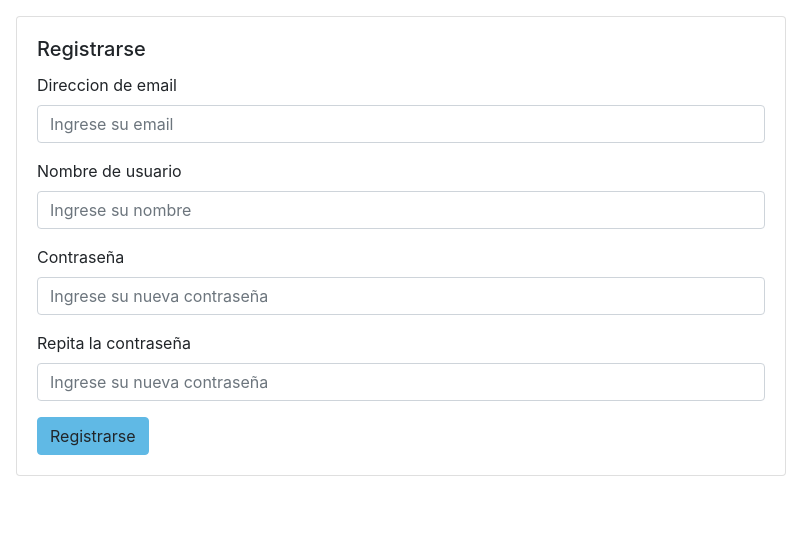
<Signup /> › should show error on invalid login
In the field labelled "Direccion de email": (401, 124) left=37, top=105, right=765, bottom=143, type "usuario@test.com.ar"
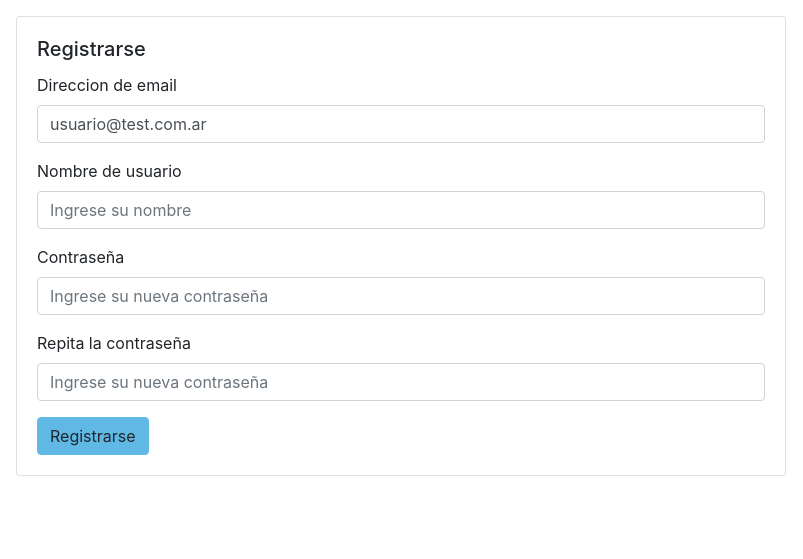
In the field labelled "Nombre de usuario": (401, 210) left=37, top=191, right=765, bottom=229, type "usuario"
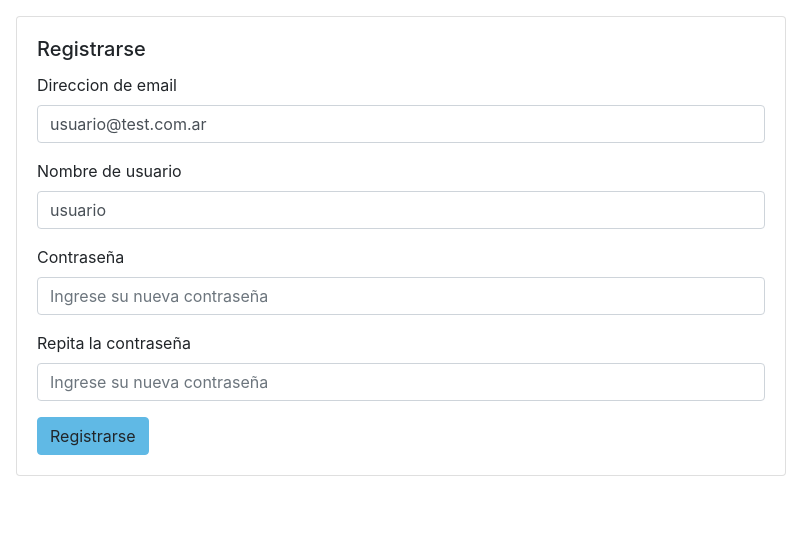
In the password field labelled "Contraseña": (401, 296) left=37, top=277, right=765, bottom=315, type "test123"
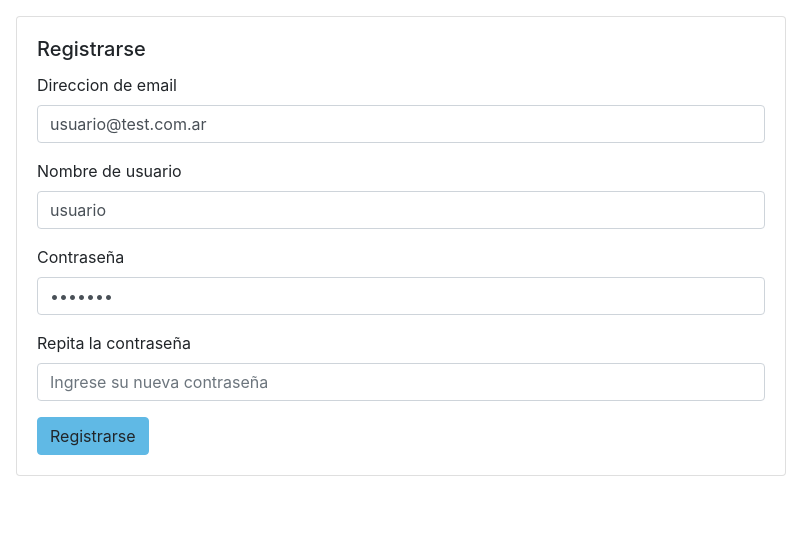
In the password field labelled "Repita la contraseña": (401, 382) left=37, top=363, right=765, bottom=401, type "test123"
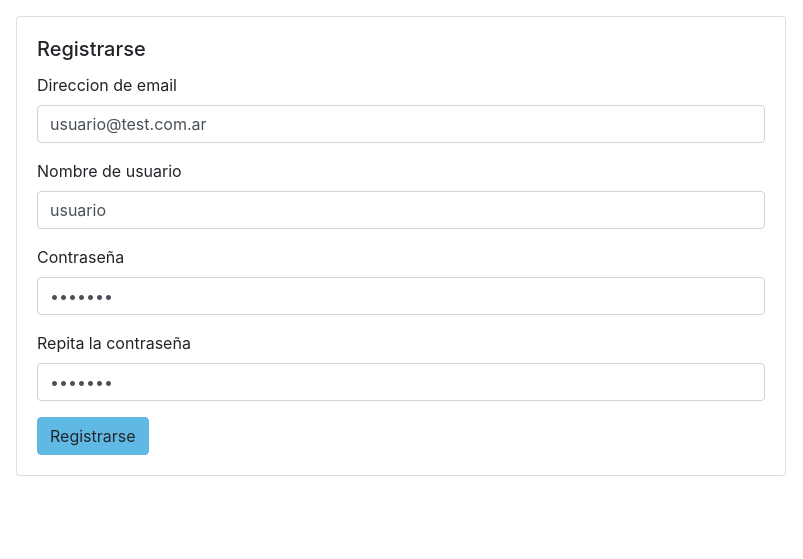
Click the button with test id "signup-button": (93, 436) left=37, top=417, right=149, bottom=455
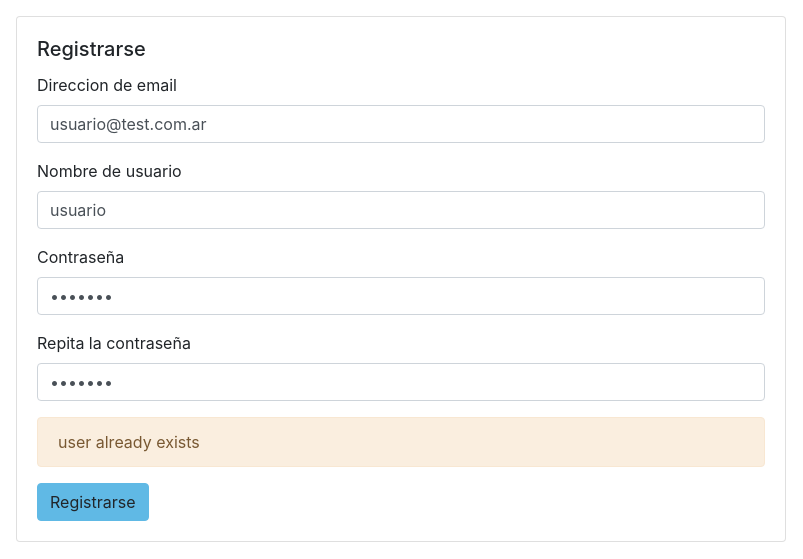
Now the message with test id "error-message" reads "user already exists", box left=58, top=432, right=200, bottom=452
